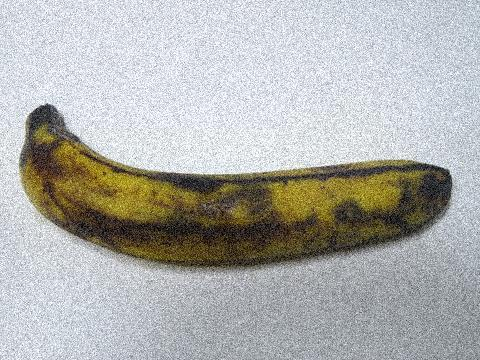overripe: (3, 80, 471, 281)
